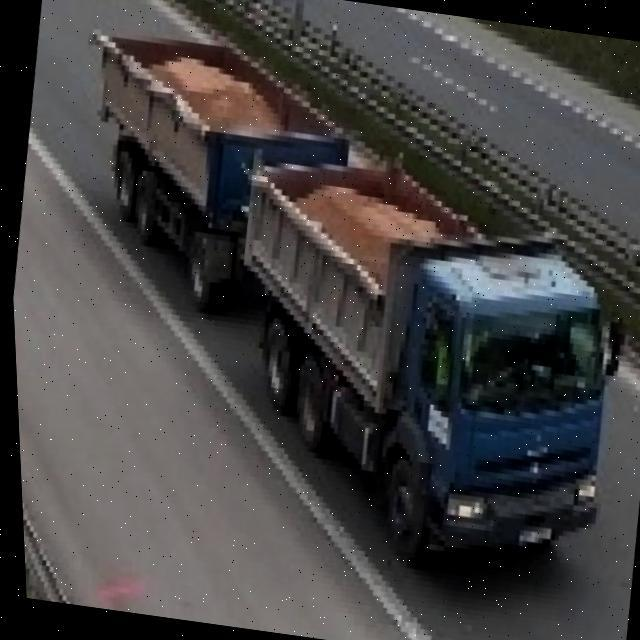truck: (36, 14, 640, 585)
